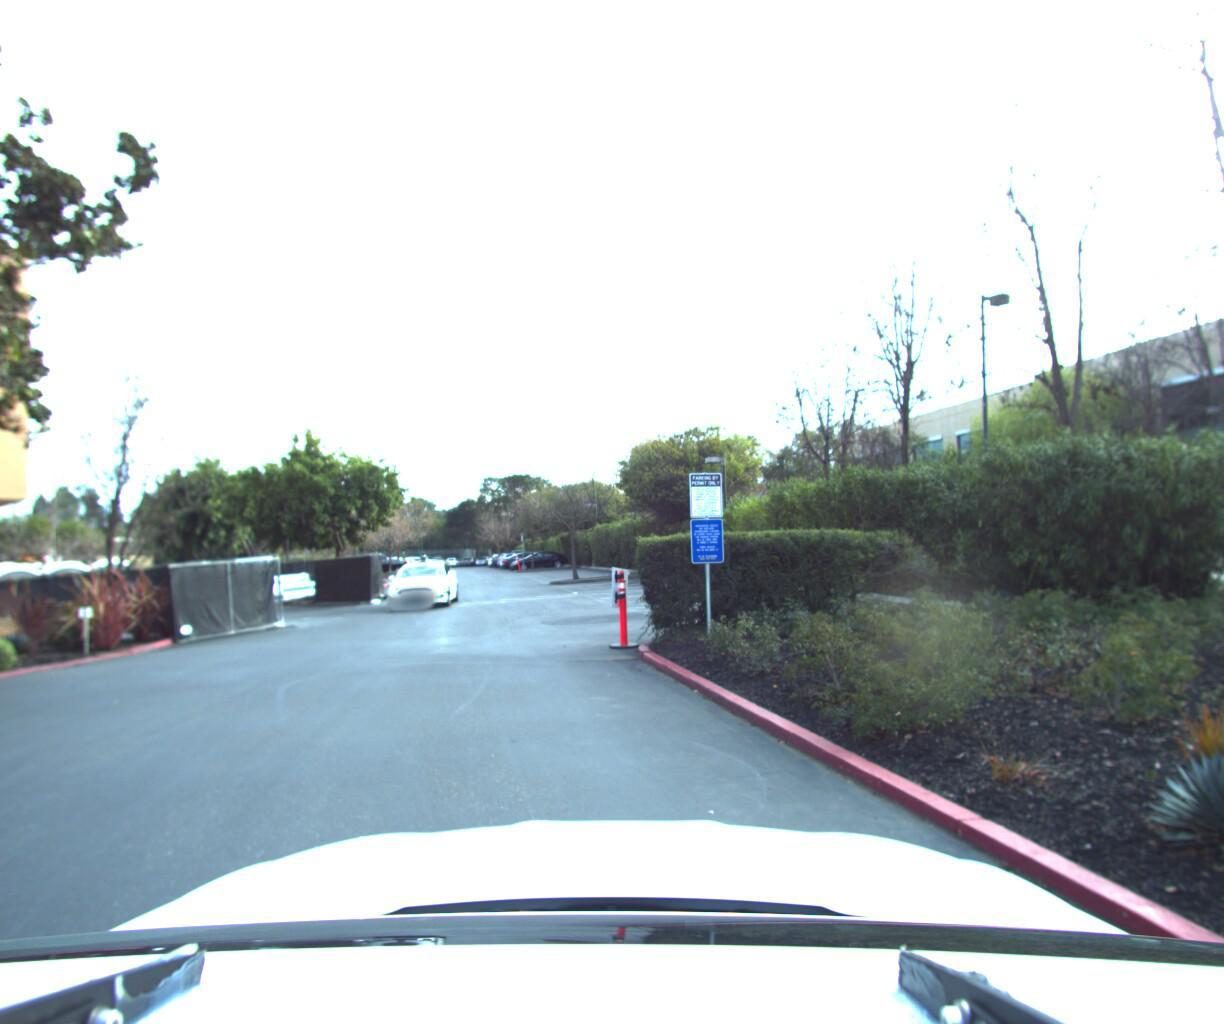car: (378, 546, 462, 608)
